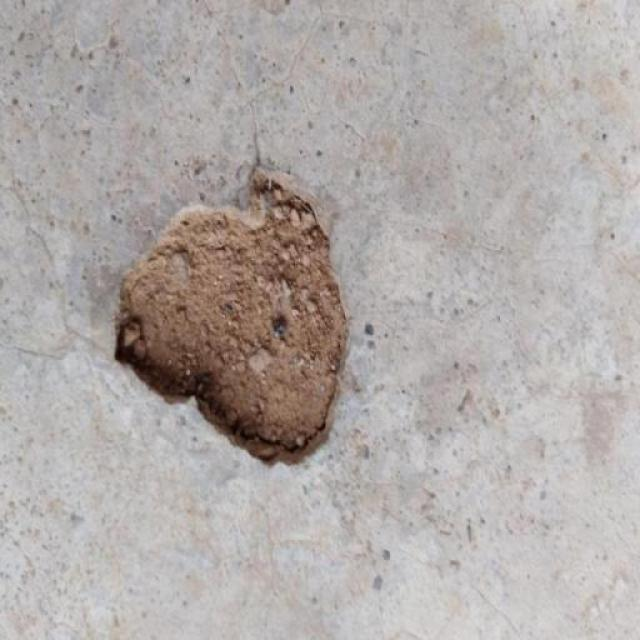D10: (114, 169, 349, 466)
